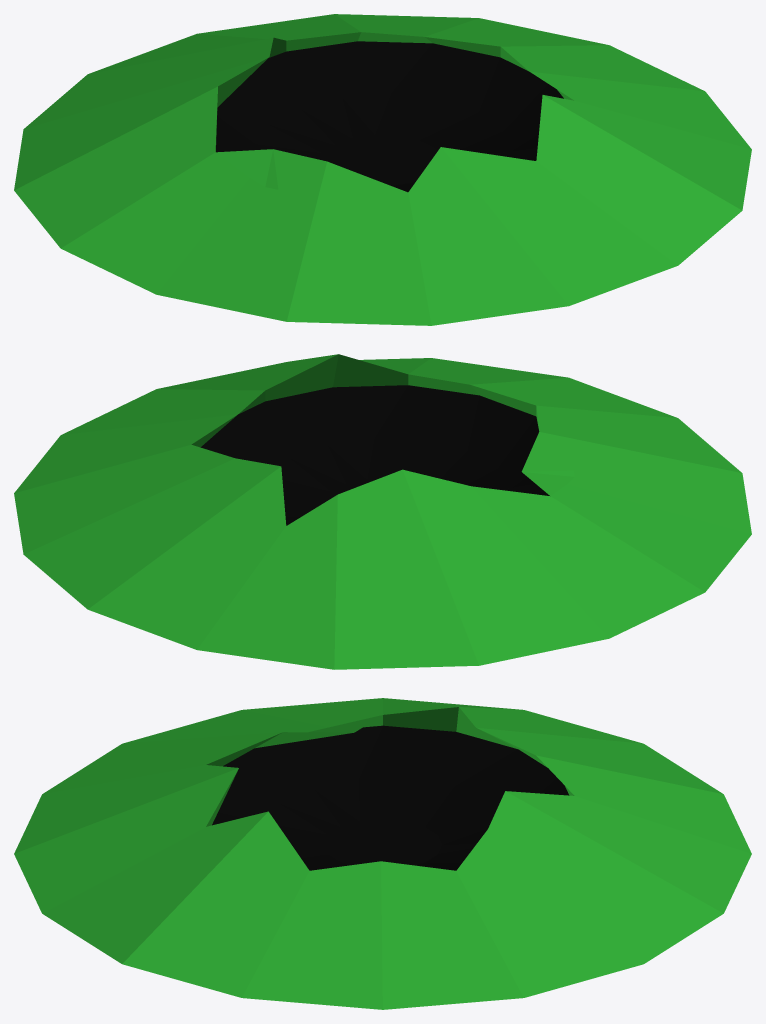
File: Hole.fbx
3 renders of one model, top to bottom at view 1: azimuth 30°, elevation 25°; view 2: azimuth 150°, elevation 25°; view 3: azimuth 270°, elevation 25°, orthographic.
Visible parts, largest first — view 1: Hole; view 2: Hole; view 3: Hole.
Part boxes in pixels (x1=…): Hole: x1=14, y1=14, x2=751, y2=325; Hole: x1=14, y1=354, x2=751, y2=669; Hole: x1=14, y1=698, x2=751, y2=1009.
Size of the model in its own units: 750 by 105 by 750.
